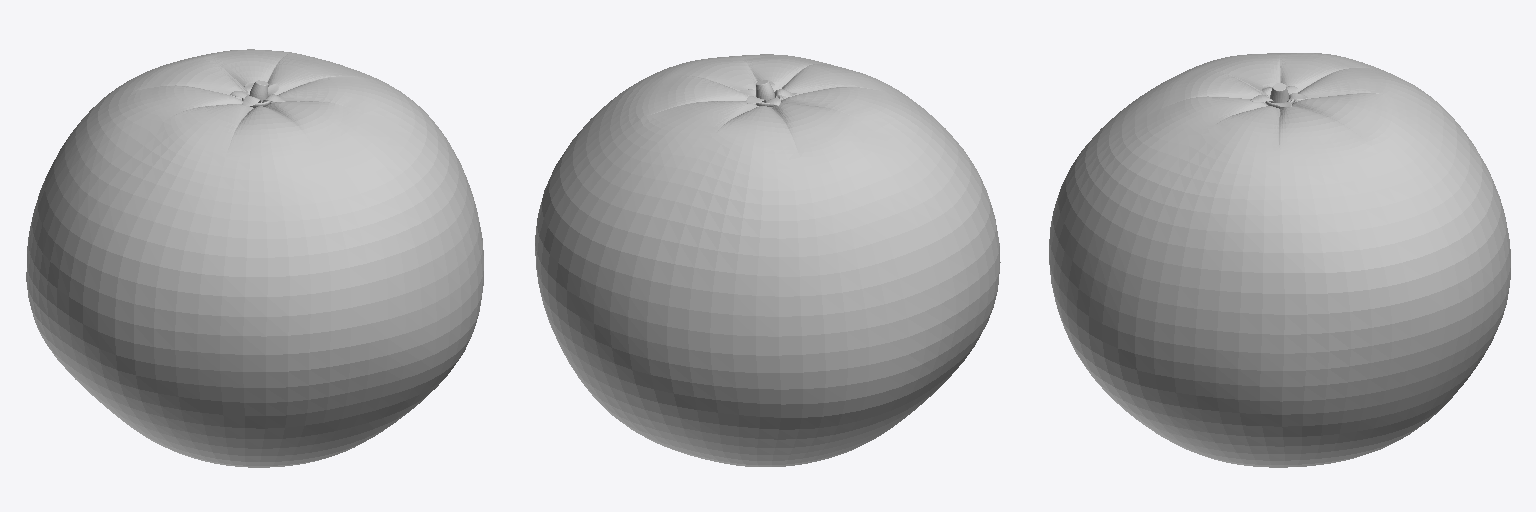
The model's file is clementine.obj.
The picture shows the model from 3 angles: view 1: azimuth 30°, elevation 25°; view 2: azimuth 150°, elevation 25°; view 3: azimuth 270°, elevation 25°; orthographic projection.
Visible parts, largest first — view 1: clémentine; view 2: clémentine; view 3: clémentine.
Boxes of the visible parts, x1,y1,x2,y2 form: clémentine: [26, 49, 483, 467]; clémentine: [535, 54, 1000, 466]; clémentine: [1049, 53, 1510, 467].
Bounding box in the file's own units: 1.19 × 0.9833 × 1.19.